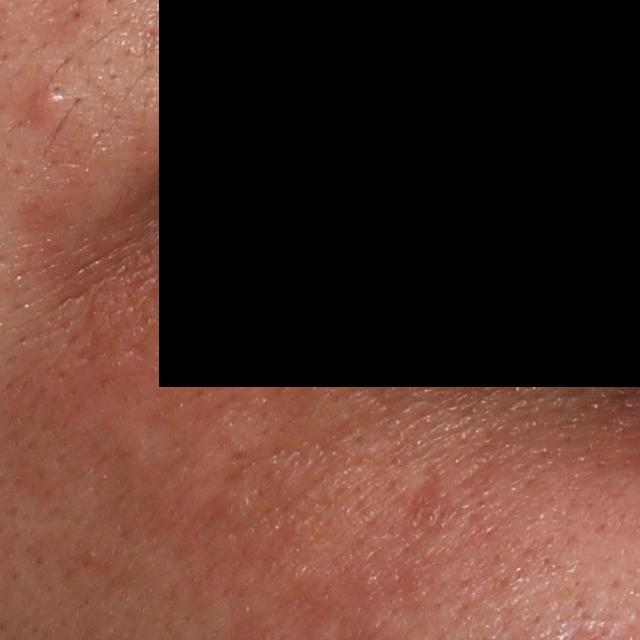papule: (19, 85, 64, 129)
